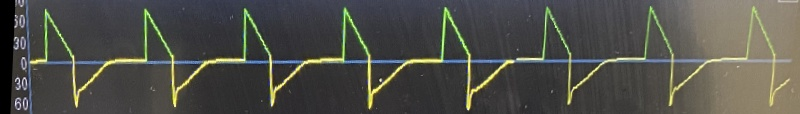normal_flow: (31, 0, 800, 114)
